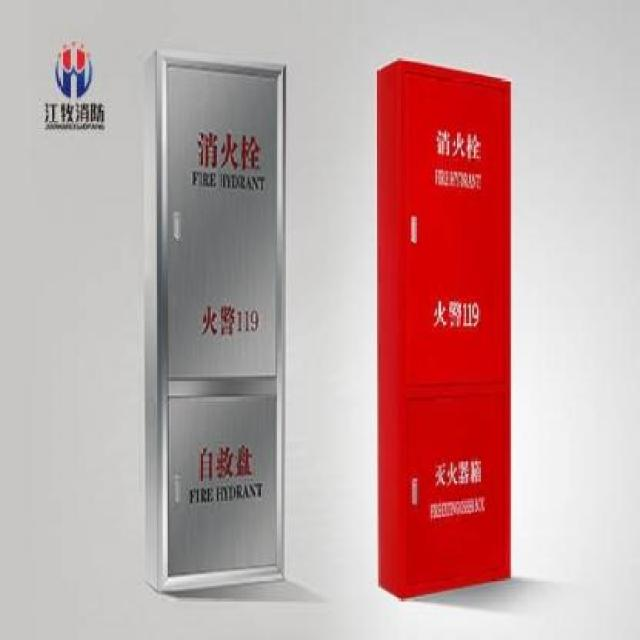firehydrant: (138, 43, 290, 596), (374, 54, 515, 604)
